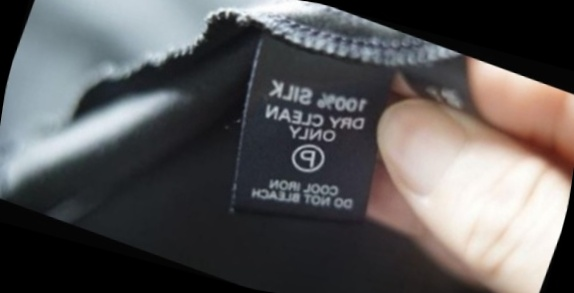dry_clean_any_solvent_except_trichloroethylene: (282, 133, 333, 181)
